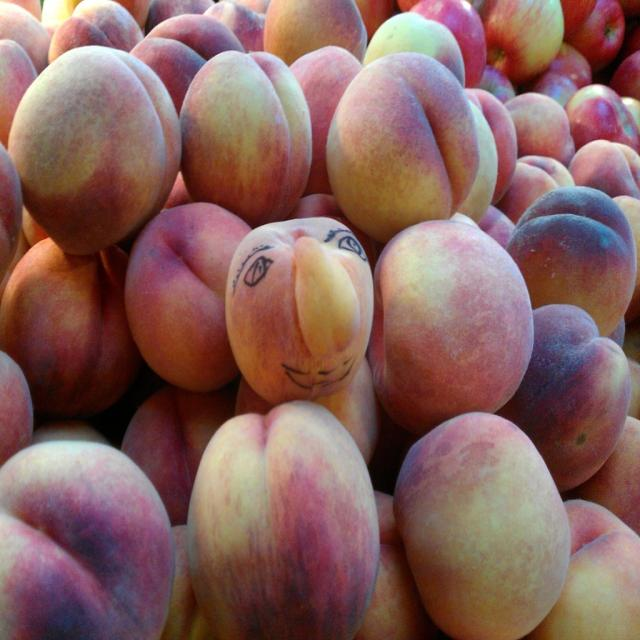Peach: (0, 0, 639, 639), (12, 46, 178, 265)
